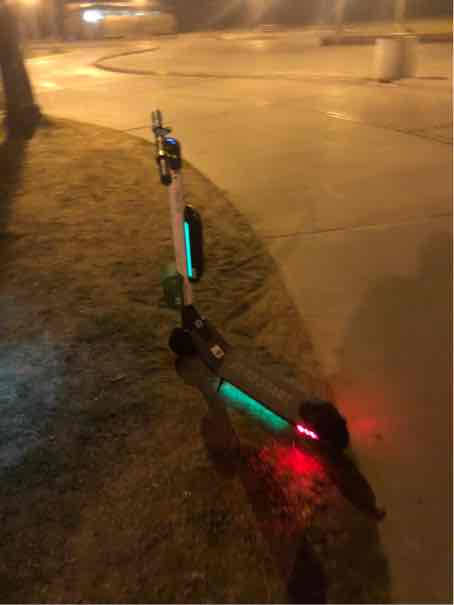scooter: (111, 95, 361, 468)
